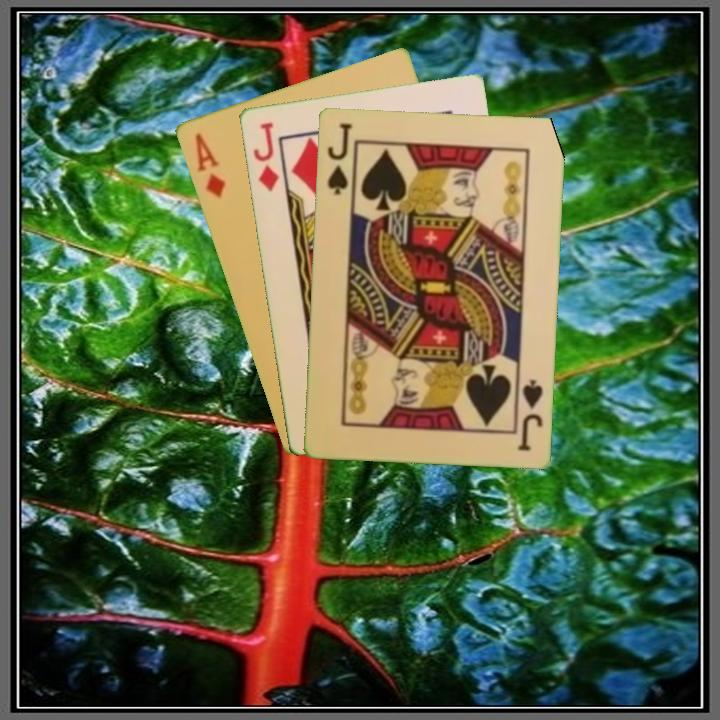Ad: (191, 129, 228, 201)
Jd: (249, 118, 282, 194)
Js: (514, 375, 546, 454), (323, 119, 355, 197)
